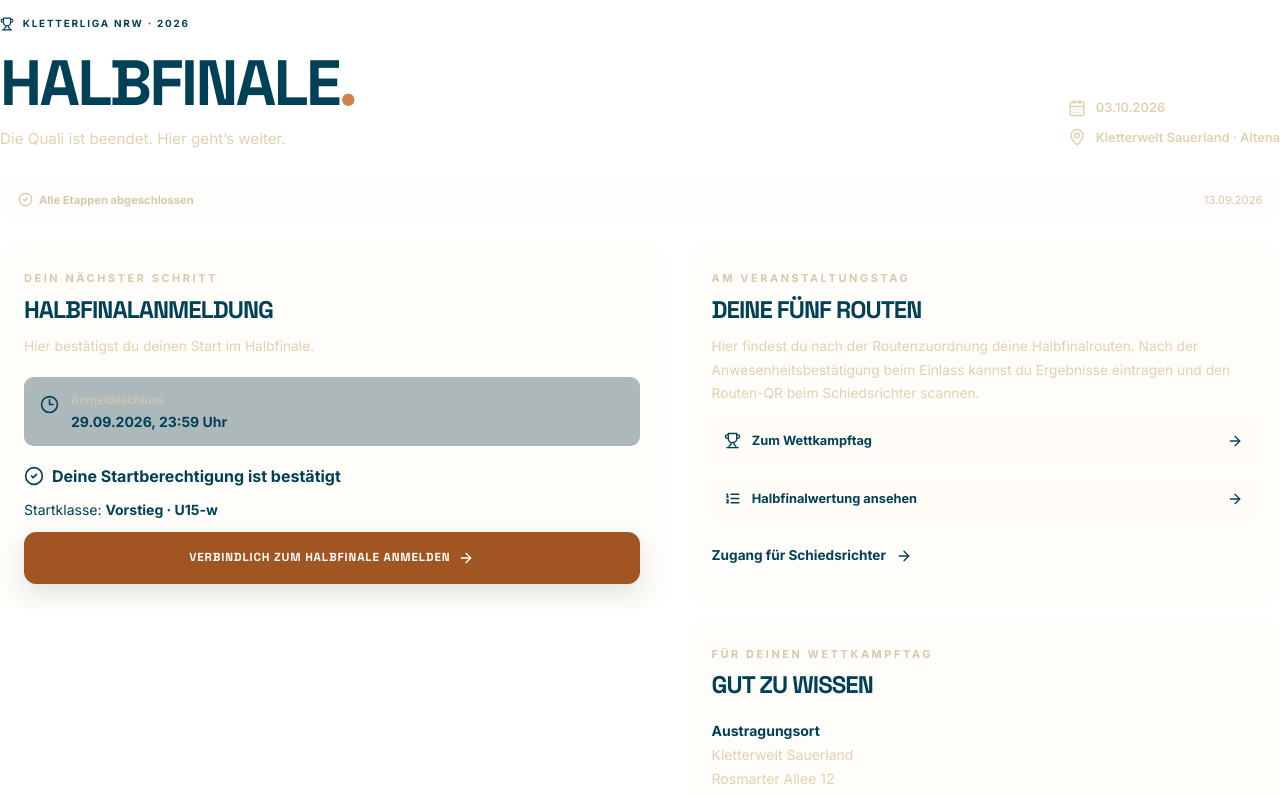
semifinal registration confirmation › keeps registration available after the old deadline and displays the extended deadline
Click the button "Verbindlich zum Halbfinale anmelden": (332, 558) x1=24 y1=532 x2=640 y2=584
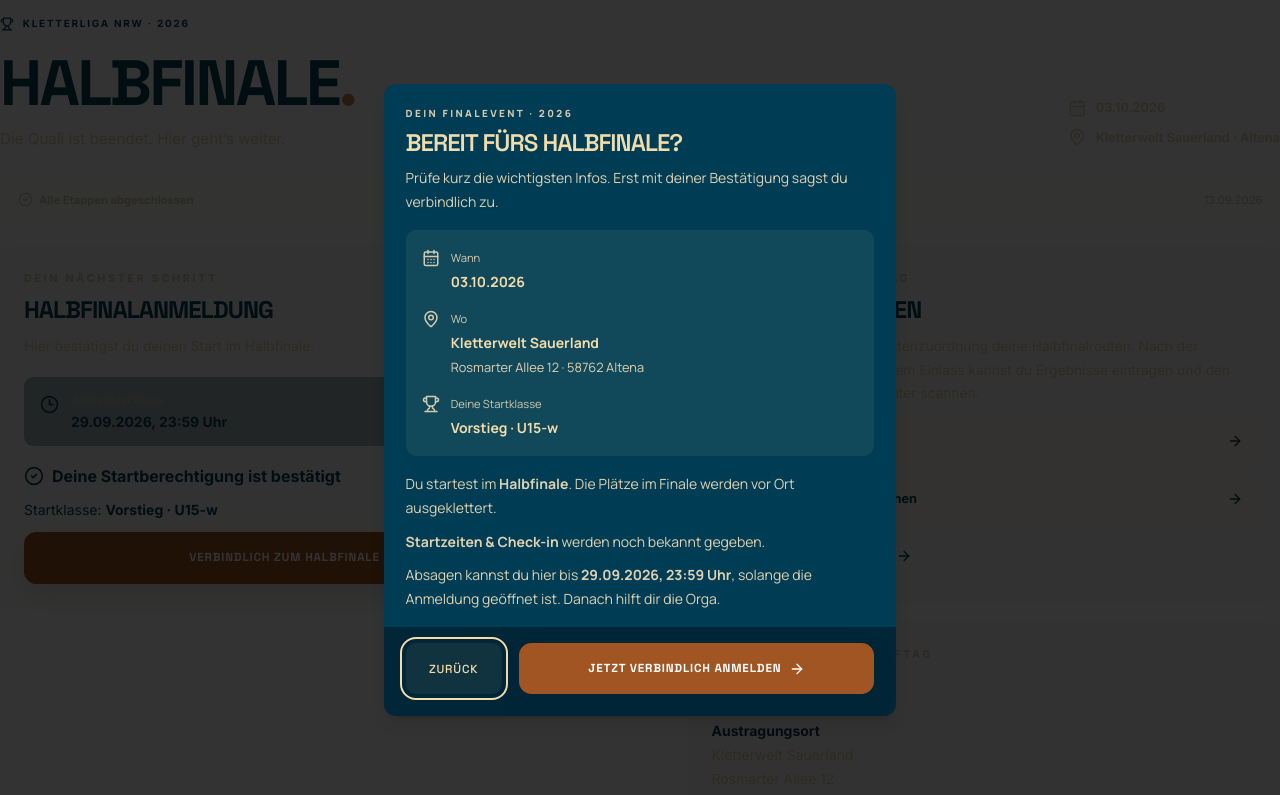
expect the text "29.09.2026, 23:59 Uhr" is shown: met, box x1=581 y1=565 x2=731 y2=584
expect the button "Jetzt verbindlich anmelden" is enabled: met, box x1=519 y1=643 x2=874 y2=694
